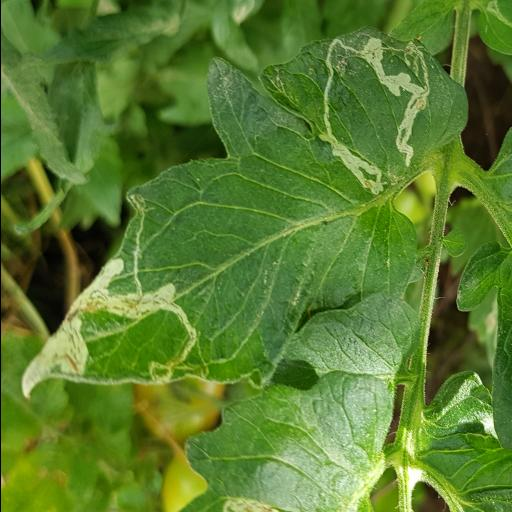disease_tomato: (20, 26, 468, 402)
